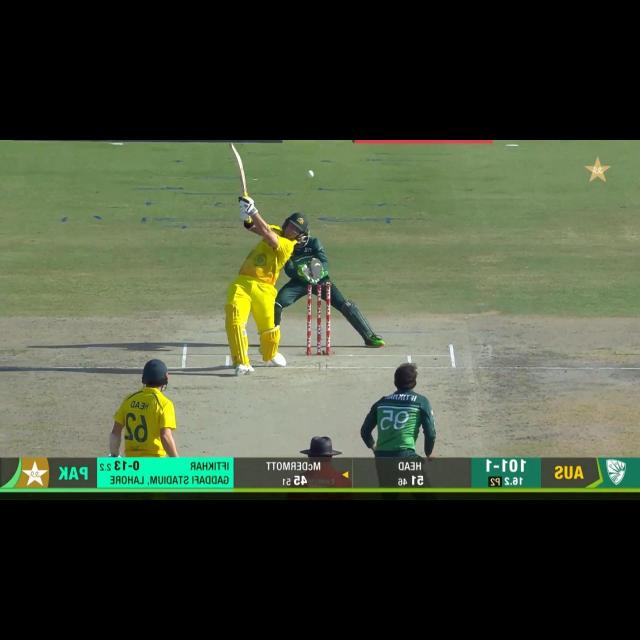bat: (226, 143, 250, 197)
toe: (228, 143, 240, 159)
